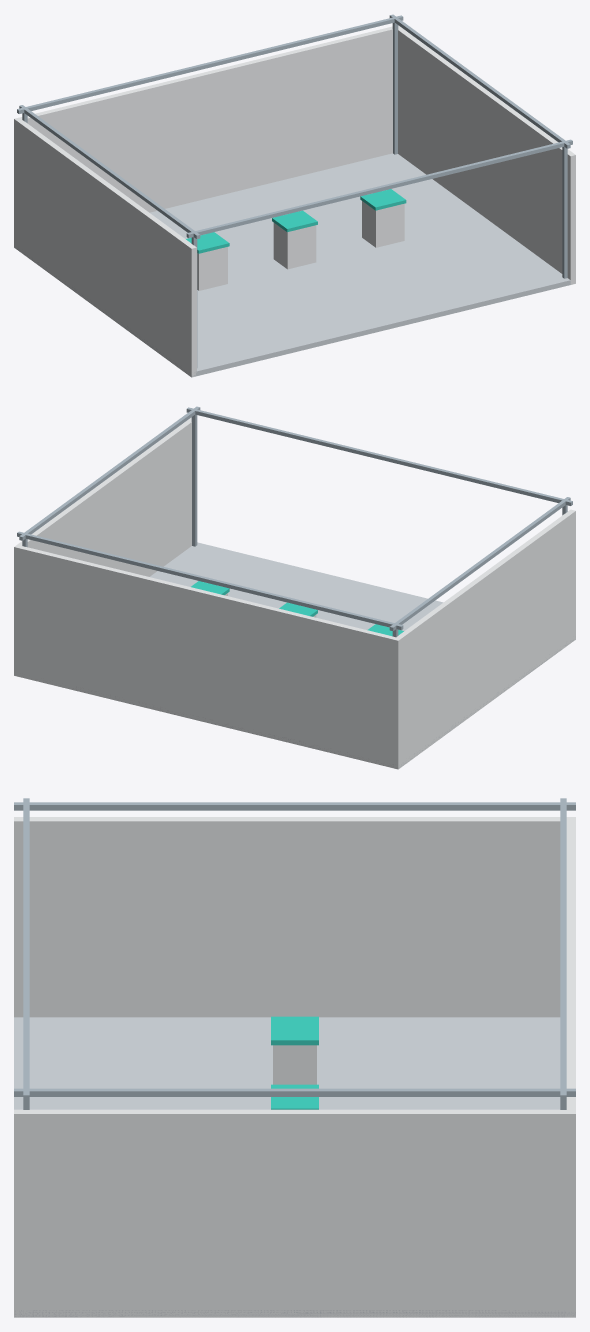
3 views of the same model, one above another, from view 1: azimuth 30°, elevation 25°; view 2: azimuth 150°, elevation 25°; view 3: azimuth 270°, elevation 25° (orthographic). The views are drawn at different scales.
Visible parts, largest first — view 1: Exhibition Booth Concept; view 2: Exhibition Booth Concept; view 3: Exhibition Booth Concept.
Boxes of the visible parts, <box> form: Exhibition Booth Concept: <box>14,14,575,377</box>; Exhibition Booth Concept: <box>14,406,575,769</box>; Exhibition Booth Concept: <box>14,798,575,1317</box>.
Size of the model in its own units: 10 by 3.49 by 8.
